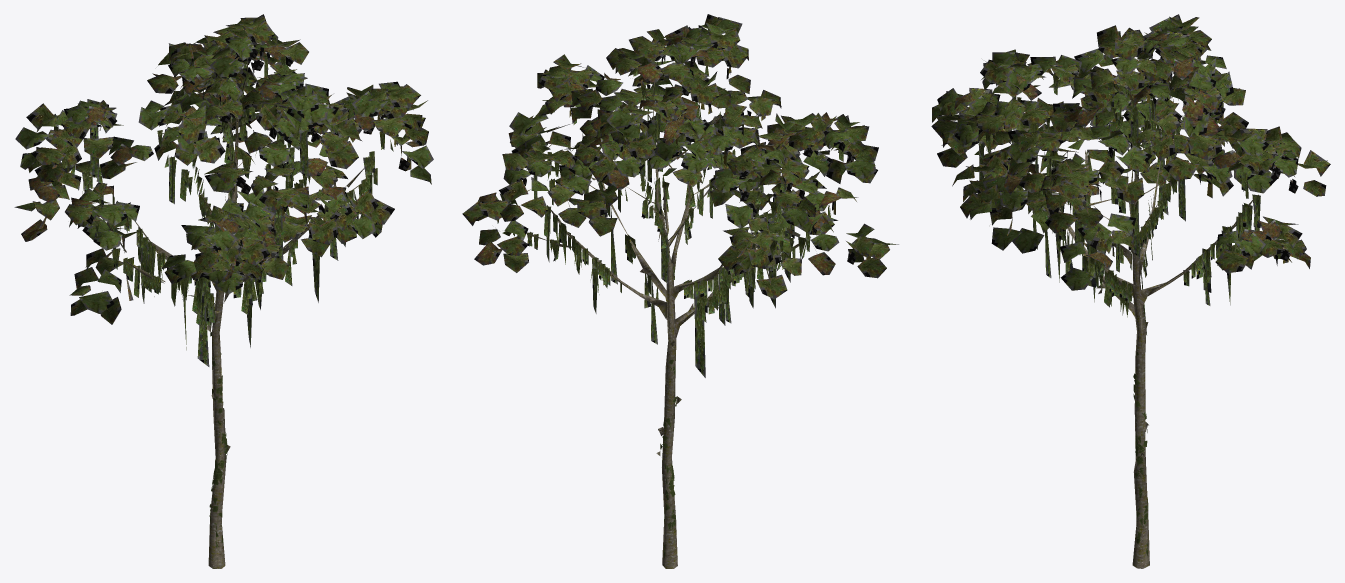
The model's file is jungle-trumpet-a-mid.glb.
The picture shows the model from 3 angles, left to right: view 1: azimuth 30°, elevation 25°; view 2: azimuth 150°, elevation 25°; view 3: azimuth 270°, elevation 25°; orthographic projection. The views are drawn at different scales.
Visible parts, largest first — view 1: LOD0; view 2: LOD0; view 3: LOD0.
Part boxes in pixels (x1=…): LOD0: x1=14, y1=14, x2=433, y2=568; LOD0: x1=462, y1=14, x2=898, y2=568; LOD0: x1=931, y1=14, x2=1330, y2=568.
Bounding box in the file's own units: 12.7 × 17.3 × 11.56.
Materials: 1 (1 with a texture image).
